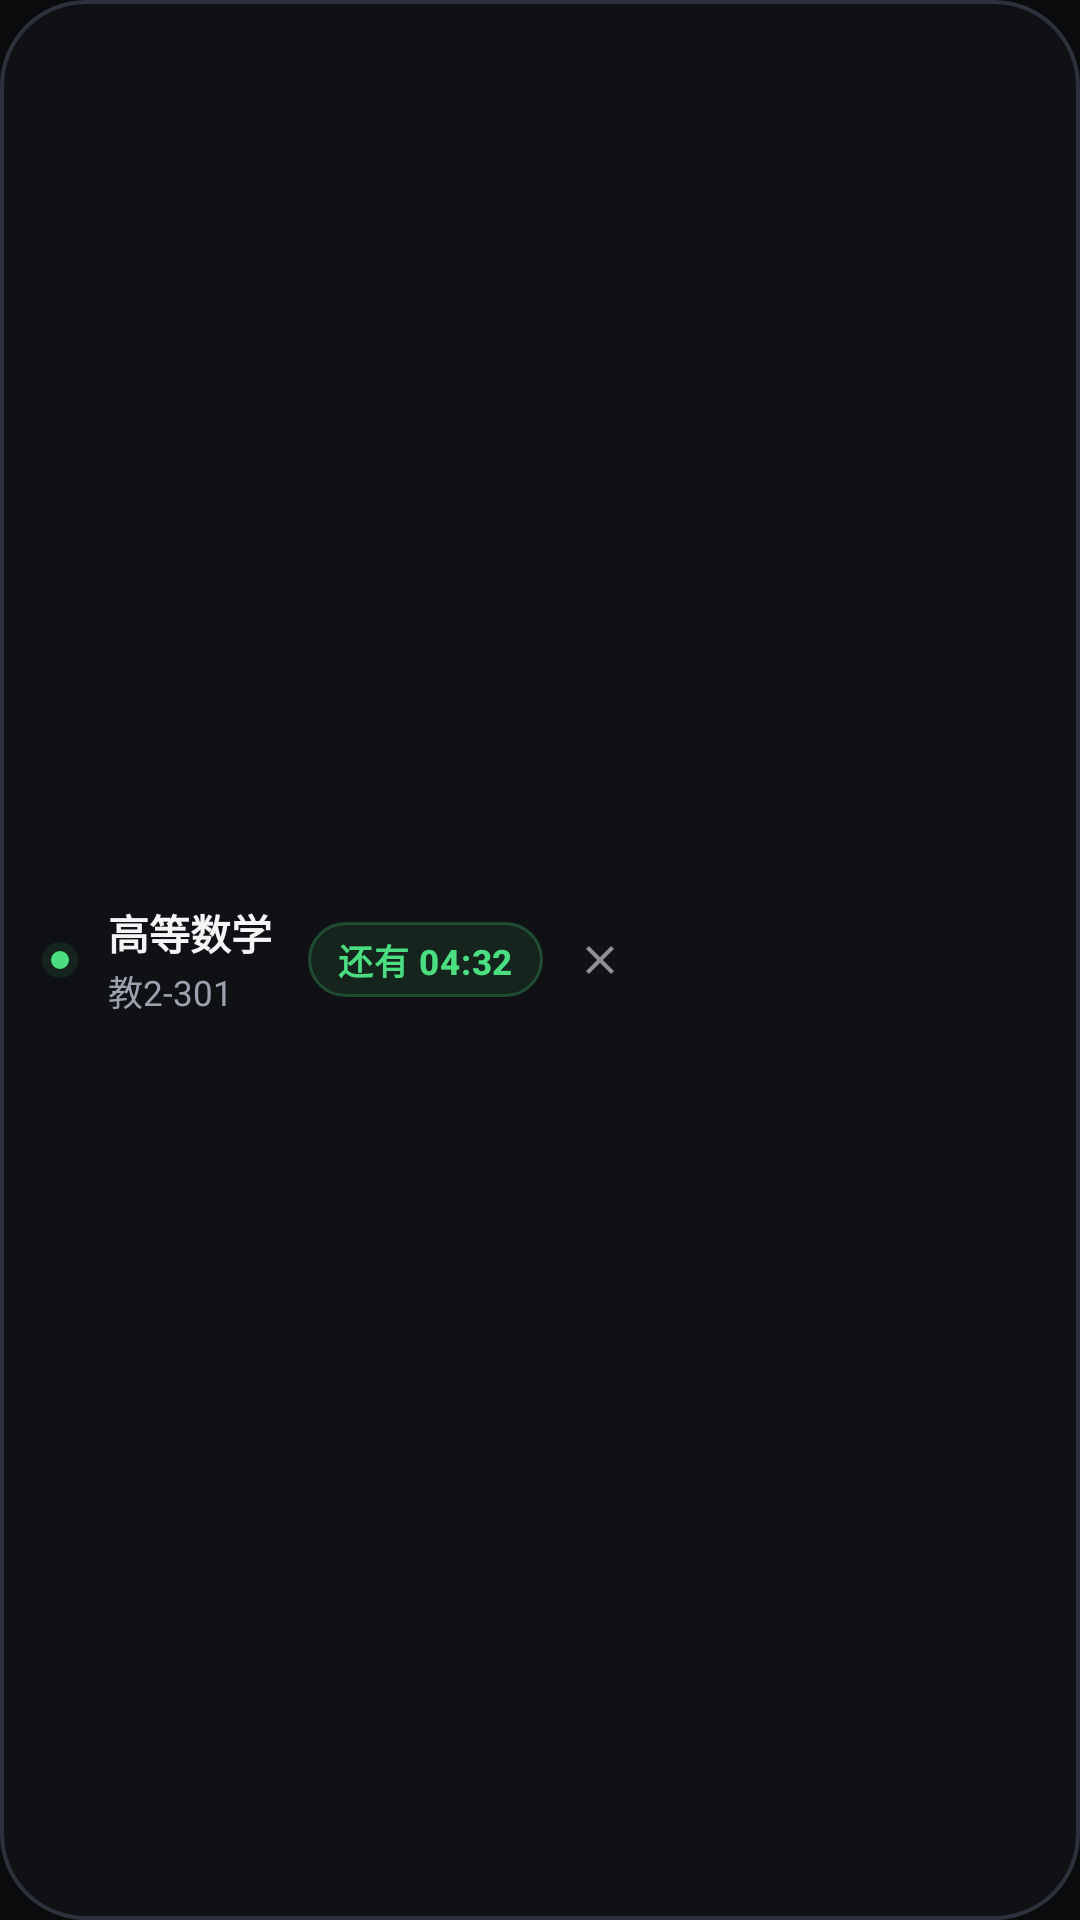

Screen size 1080px x 1920px. Icon name, then its center in pixels as [x,y]:
关闭提醒: [600,960]
